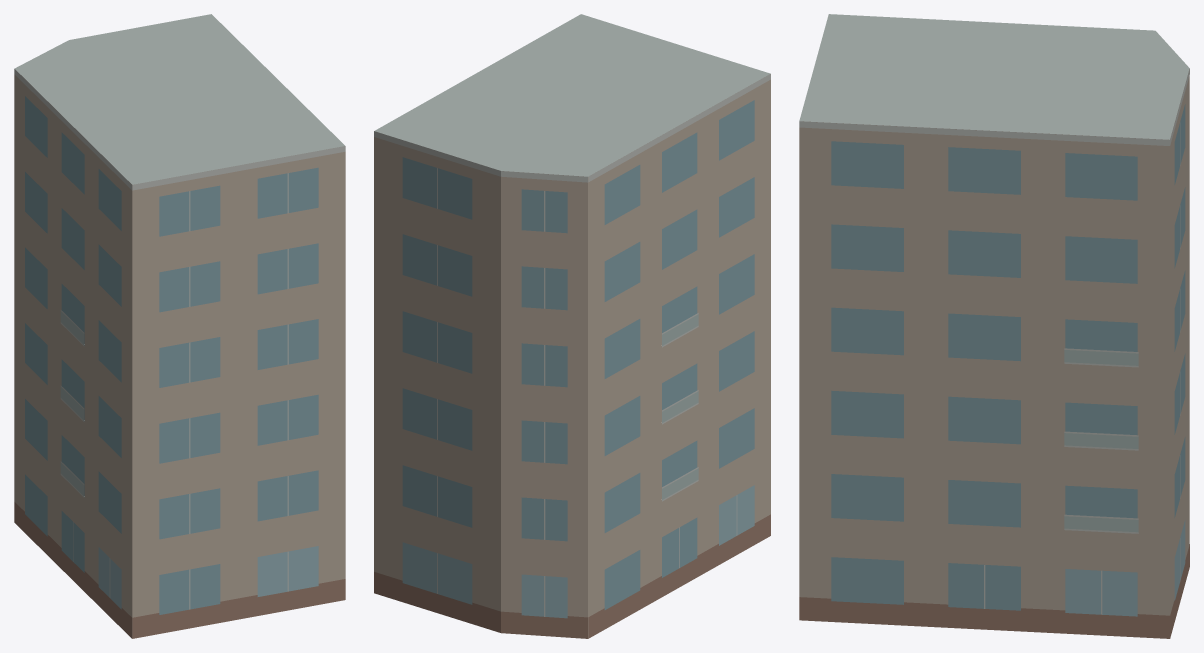
Rendered from survey-upis-32712328.glb.
3 views of the same model, side by side, from view 1: azimuth 30°, elevation 25°; view 2: azimuth 150°, elevation 25°; view 3: azimuth 270°, elevation 25° (orthographic). The views are drawn at different scales.
Parts seen in each view (by area): view 1: survey-upis-32712328.tmp; view 2: survey-upis-32712328.tmp; view 3: survey-upis-32712328.tmp.
Boxes of the visible parts, left/top/right/bottom form: survey-upis-32712328.tmp: left=14, top=14, right=345, bottom=638; survey-upis-32712328.tmp: left=374, top=14, right=770, bottom=638; survey-upis-32712328.tmp: left=799, top=14, right=1189, bottom=638.
Bounding box in the file's own units: 10.44 × 19.3 × 13.7.
